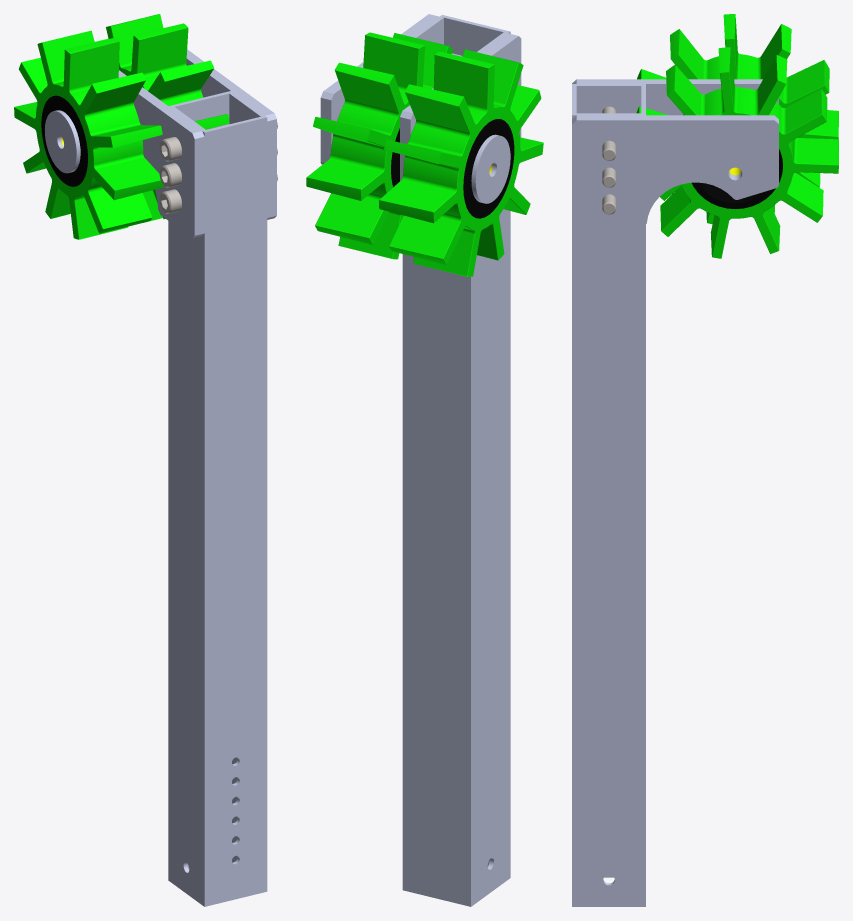
3 views of the same model, side by side, from view 1: azimuth 30°, elevation 25°; view 2: azimuth 150°, elevation 25°; view 3: azimuth 270°, elevation 25° (orthographic). The views are drawn at different scales.
Visible parts, largest first — view 1: NAUO1, NAUO15 (×2), NAUO3, NAUO4, NAUO11, NAUO16; view 2: NAUO1, NAUO15 (×2), NAUO11, NAUO16, NAUO4, NAUO3; view 3: NAUO1, NAUO15 (×2), NAUO4, NAUO3, NAUO16.
Boxes of the visible parts, left/top/right/bottom form: NAUO1: left=168, top=91, right=267, bottom=906; NAUO15 (×2): left=14, top=14, right=229, bottom=239; NAUO3: left=118, top=70, right=204, bottom=238; NAUO4: left=186, top=49, right=276, bottom=219; NAUO11: left=44, top=110, right=80, bottom=173; NAUO16: left=41, top=95, right=87, bottom=186; NAUO1: left=402, top=15, right=510, bottom=906; NAUO15 (×2): left=306, top=32, right=543, bottom=276; NAUO11: left=471, top=134, right=510, bottom=203; NAUO16: left=463, top=119, right=514, bottom=218; NAUO4: left=320, top=14, right=438, bottom=164; NAUO3: left=400, top=33, right=521, bottom=180; NAUO1: left=572, top=84, right=645, bottom=906; NAUO15 (×2): left=636, top=14, right=838, bottom=258; NAUO4: left=572, top=115, right=778, bottom=227; NAUO3: left=572, top=79, right=778, bottom=115; NAUO16: left=692, top=149, right=782, bottom=208.
Bounding box in the file's own units: 0.0774 × 0.394 × 0.1145.
